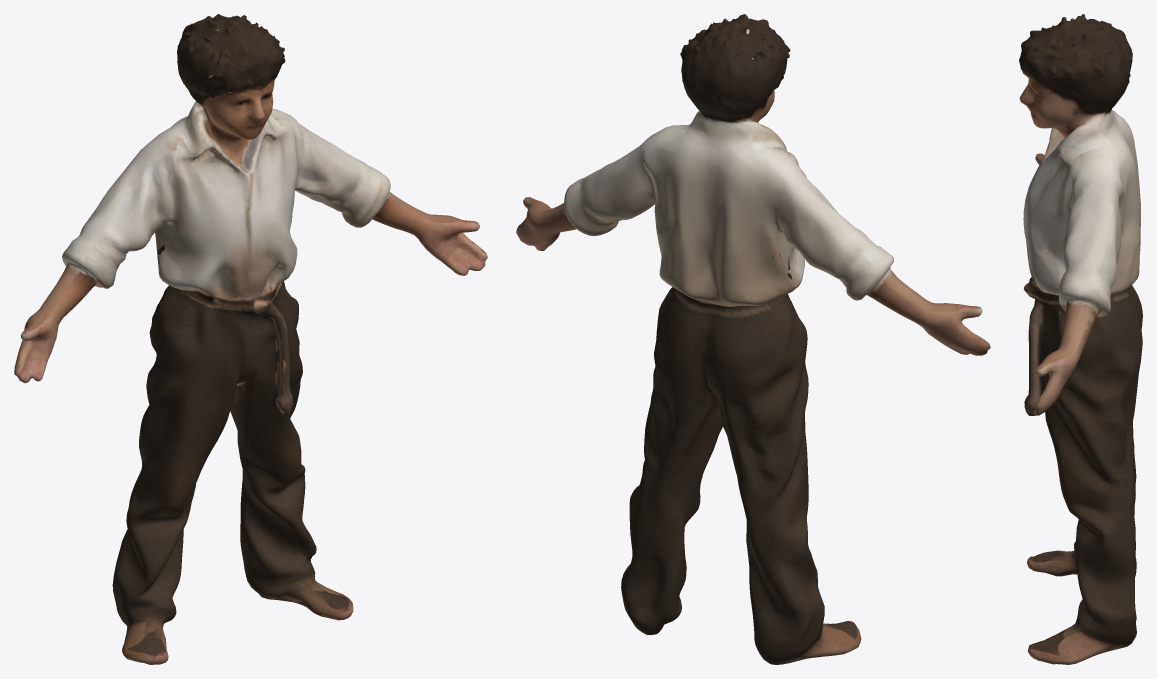
The model's file is muchacho_rig.glb.
3 views of the same model, side by side, from view 1: azimuth 30°, elevation 25°; view 2: azimuth 150°, elevation 25°; view 3: azimuth 270°, elevation 25° (orthographic). The views are drawn at different scales.
Parts seen in each view (by area): view 1: temp_mesh.ply; view 2: temp_mesh.ply; view 3: temp_mesh.ply.
Part boxes in pixels (box(x1,y1,x2,y2)): temp_mesh.ply: box(14, 14, 487, 664); temp_mesh.ply: box(516, 14, 990, 664); temp_mesh.ply: box(1019, 14, 1142, 664).
Bounding box in the file's own units: 1.21 × 1.5 × 0.2818.
1 material, 1 textured.
